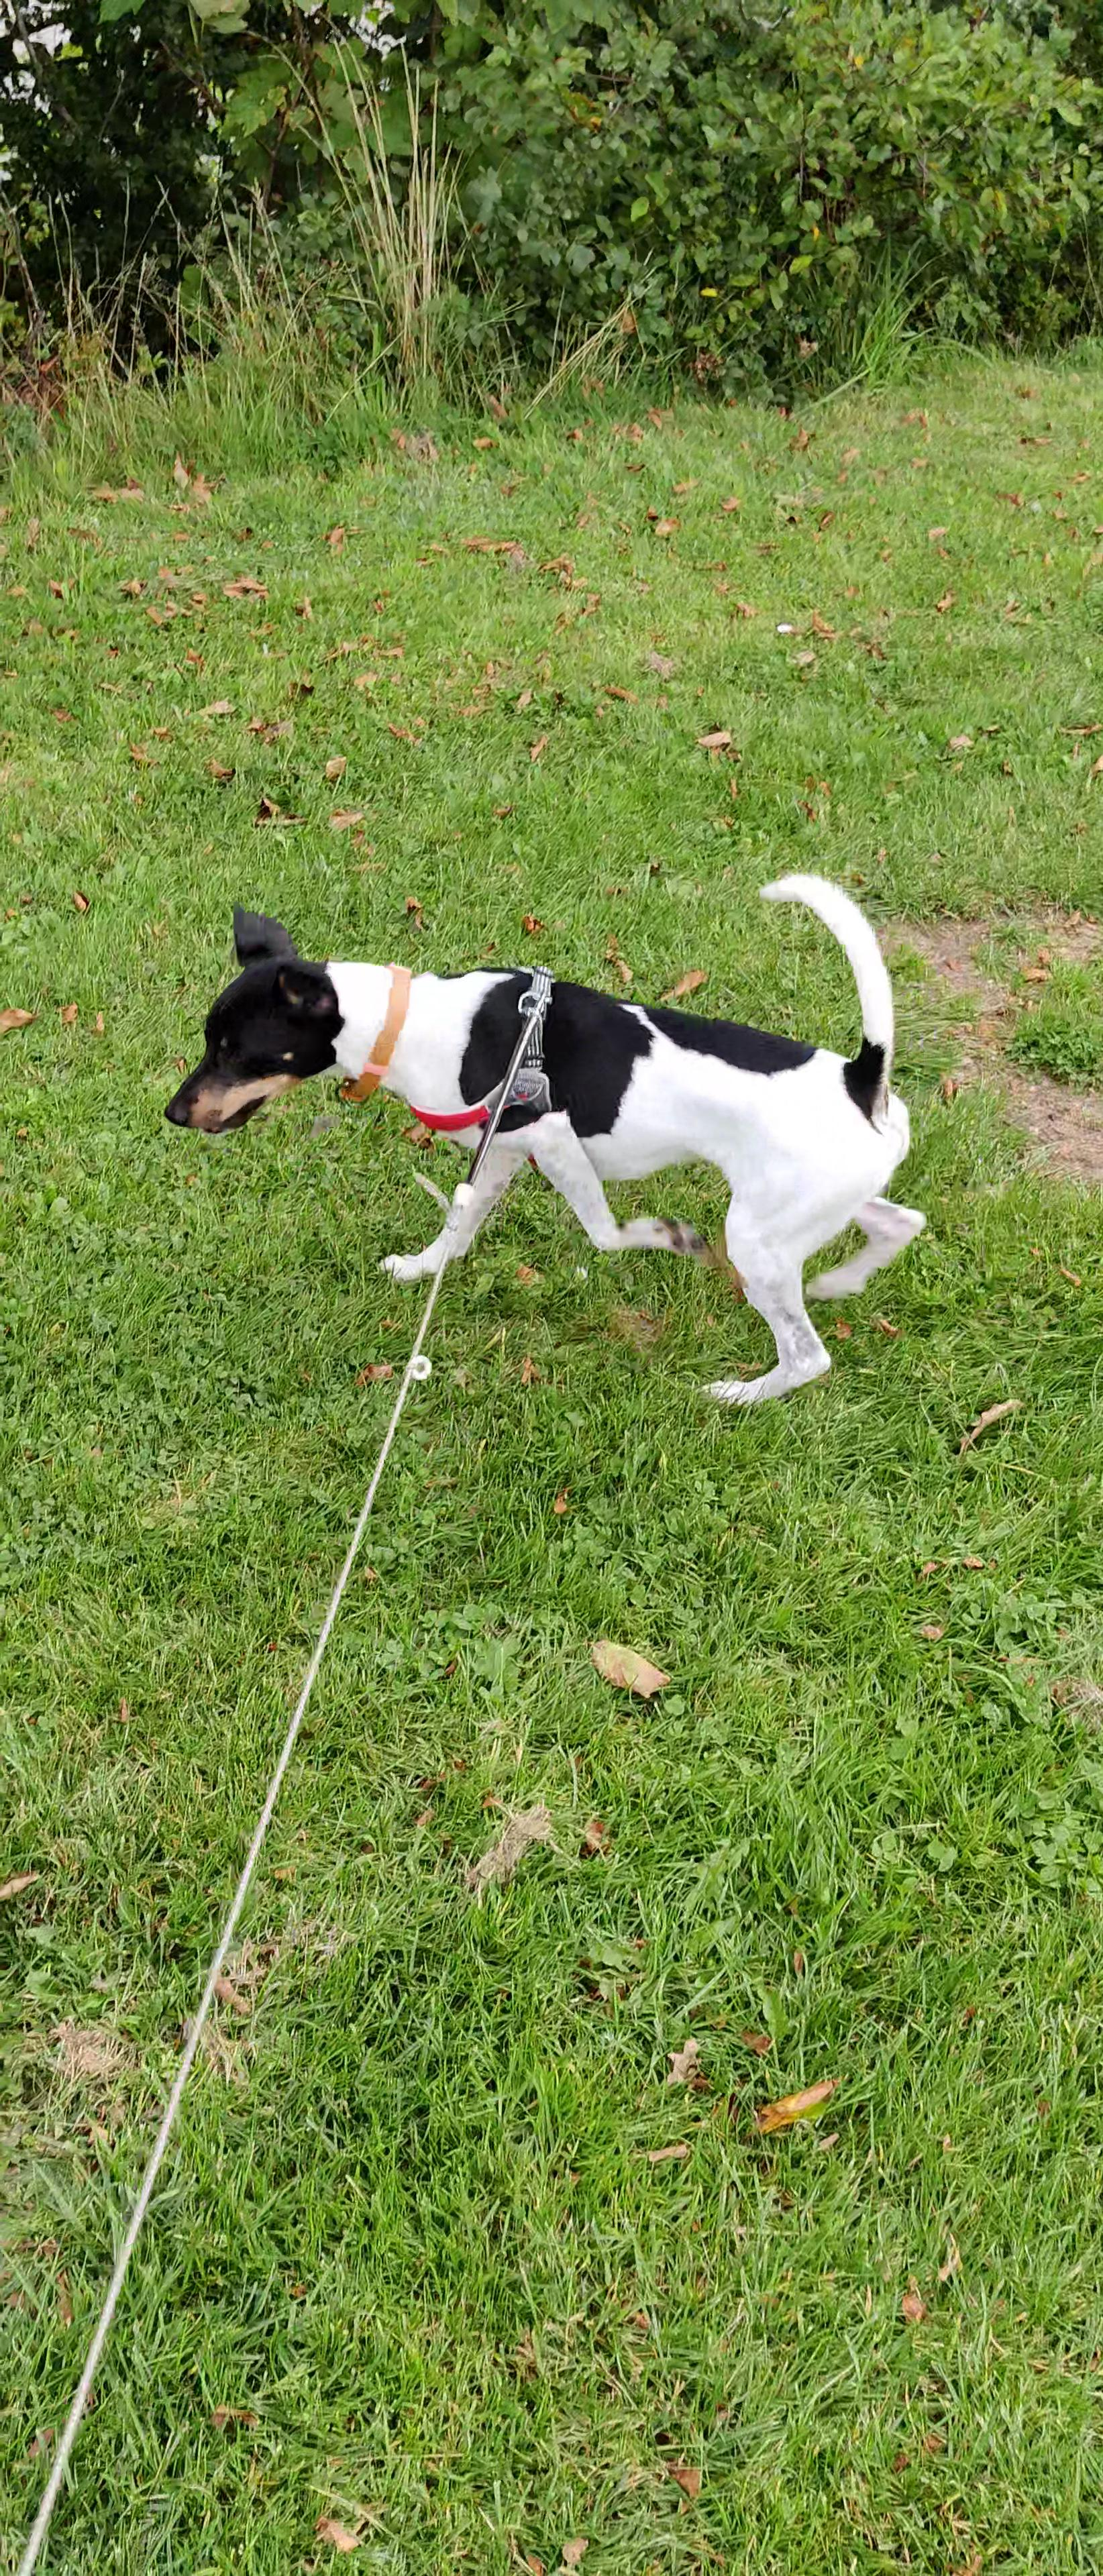Dog: (150, 858, 934, 1413)
